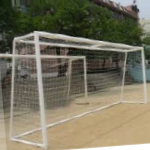goals: (8, 29, 148, 148)
